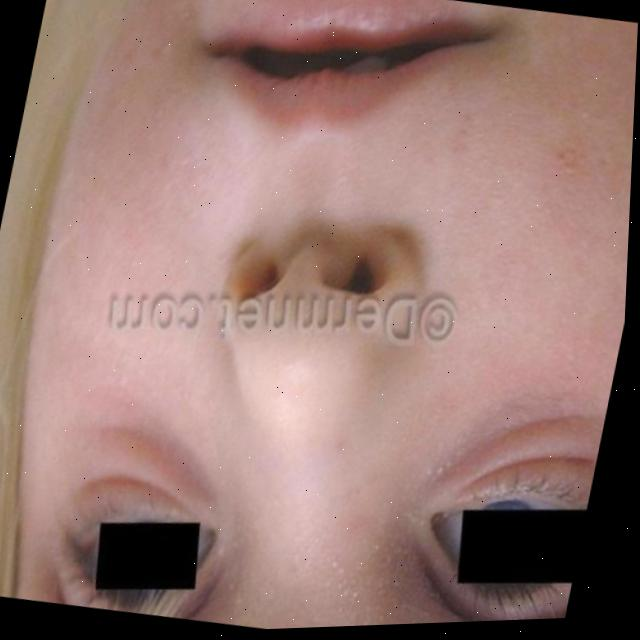Eczema: (66, 26, 242, 179), (502, 71, 636, 202)
